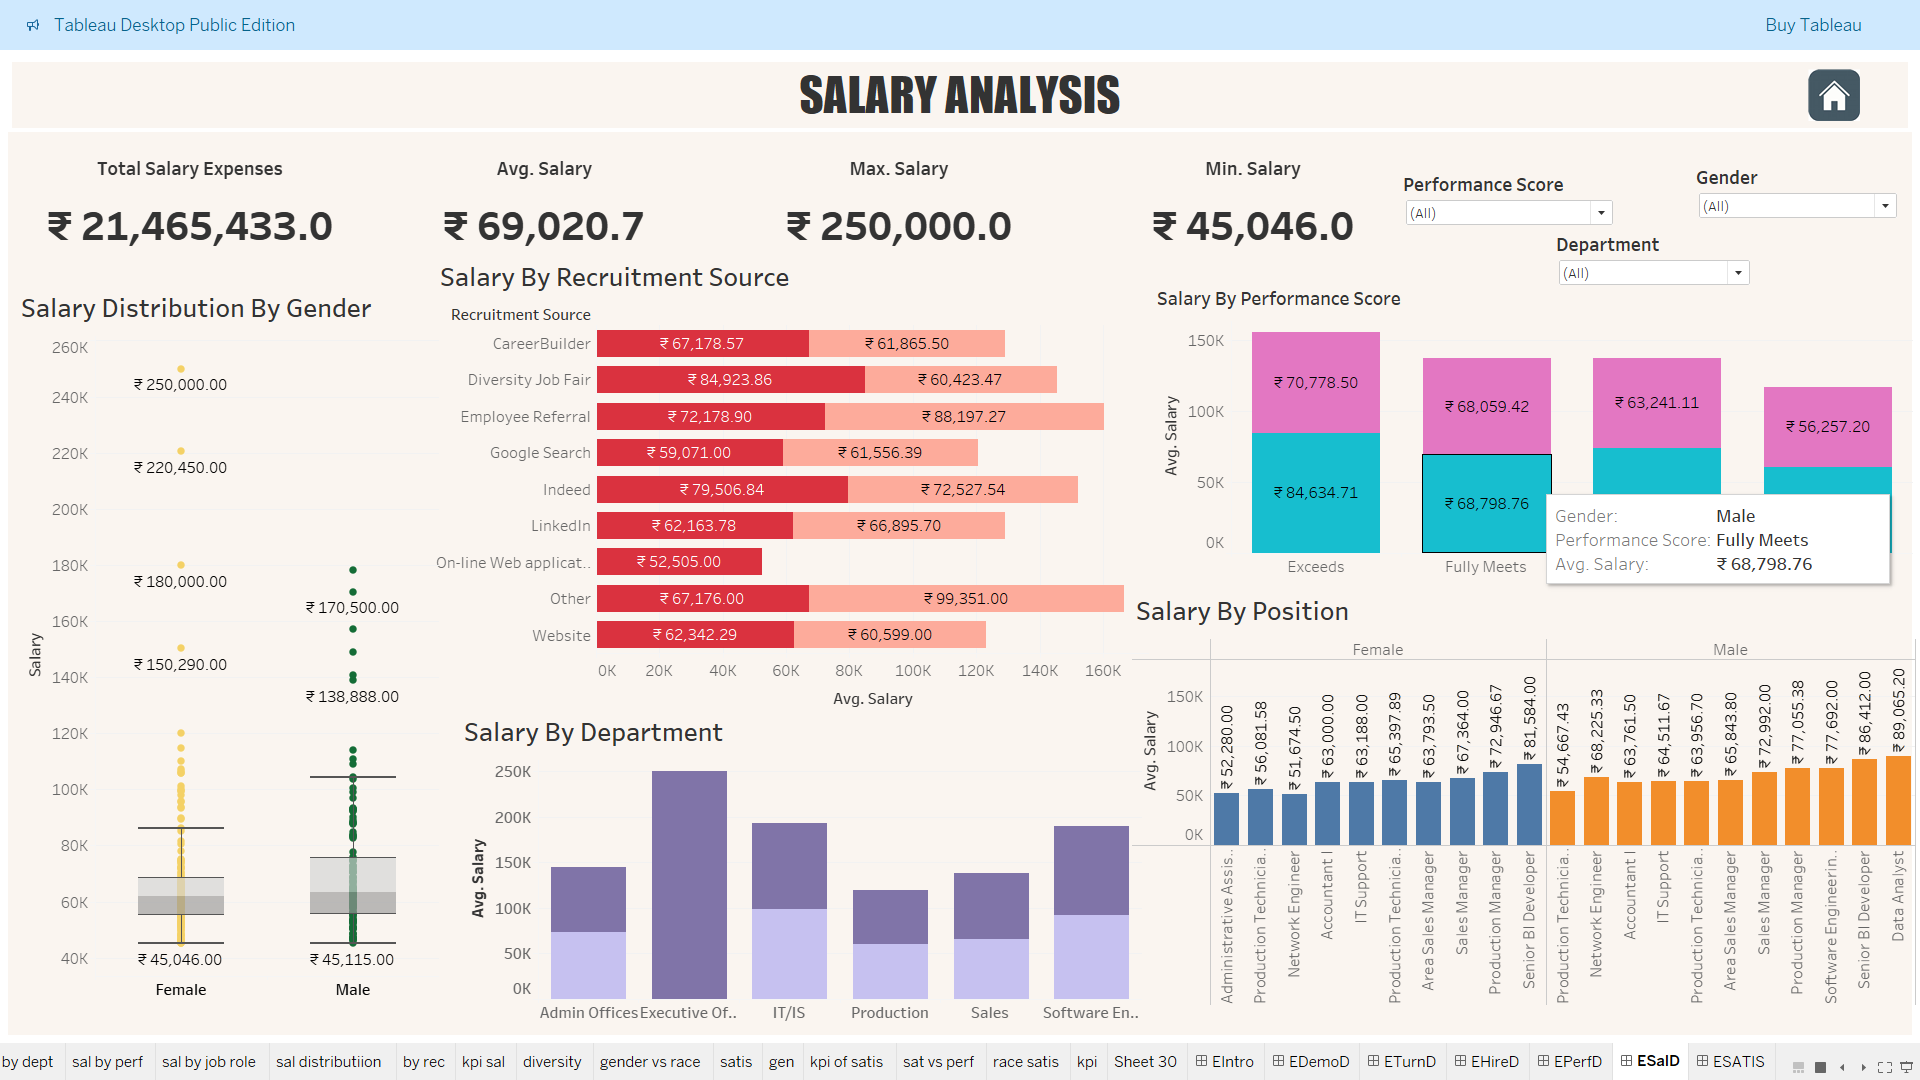

The dashboard page shown, as its layout file describes it:
{"tool":"tableau","page":{"name":"ESalD","canvas":[1000,1000],"units":"permille","ordinal":5},"visuals":[{"type":"title","box":[4.8,10,990.3,92.4]},{"type":"dashboard-object","box":[939.1,18.7,32.6,52.4]},{"type":"worksheet","title":"kpi sal","mark":"Automatic","box":[6.6,98.6,738.1,113.6]},{"type":"filter","title":"sal distributiion","param":"[federated.1vm1vwc0t0qac1129jdzf09ga7oo].[Action (Gender)]","box":[883.5,114.9,106.2,76.2]},{"type":"filter","title":"sal distributiion","param":"[federated.1vm1vwc0t0qac1129jdzf09ga7oo].[Action (Performance Score)]","box":[730.8,122.4,111,66.2]},{"type":"filter","title":"sal distributiion","param":"[federated.1vm1vwc0t0qac1129jdzf09ga7oo].[Action (Department)]","box":[810.5,182.3,102.6,73.7]},{"type":"worksheet","title":"by rec","mark":"Automatic","rows":["RecruitmentSource"],"cols":["Salary"],"box":[226.9,206,371.8,464.4]},{"type":"worksheet","title":"sal by perf","mark":"Automatic","rows":["Salary"],"cols":["PerformanceScore"],"box":[600.5,232.2,395.9,314.6]},{"type":"worksheet","title":"sal distributiion","mark":"Circle","rows":["Salary"],"cols":["Calculation_290482232016424965"],"box":[9.1,237.2,219.7,739.1]},{"type":"worksheet","title":"sal by job role","mark":"Automatic","rows":["Salary"],"cols":["Calculation_290482232016424965","Position"],"box":[589.6,543.1,408.6,419.5]},{"type":"worksheet","title":"sal by dept","mark":"Automatic","rows":["Salary"],"cols":["Department"],"box":[239.6,664.2,355.5,330.8]}]}

Visuals, with their boxes on the dashboard's canvas, which has no fixed pixel size, in thousandths of its width and height (x1, y1, x2, y2). These are canvas units, not pixel positions in the 1920x1080 screenshot, which may show the page scaled, cropped or inside an application window:
title: 5, 10, 995, 102
dashboard-object: 939, 19, 972, 71
"kpi sal" worksheet: 7, 99, 745, 212
"sal distributiion" filter: 884, 115, 990, 191
"sal distributiion" filter: 731, 122, 842, 189
"sal distributiion" filter: 810, 182, 913, 256
"by rec" worksheet: 227, 206, 599, 670
"sal by perf" worksheet: 600, 232, 996, 547
"sal distributiion" worksheet (Circle marks): 9, 237, 229, 976
"sal by job role" worksheet: 590, 543, 998, 963
"sal by dept" worksheet: 240, 664, 595, 995
